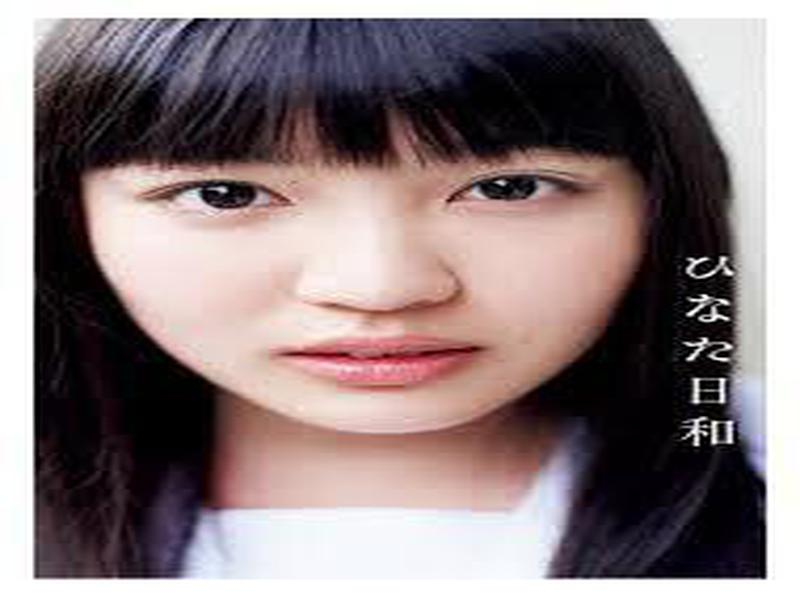without_mask: (80, 131, 642, 444)
